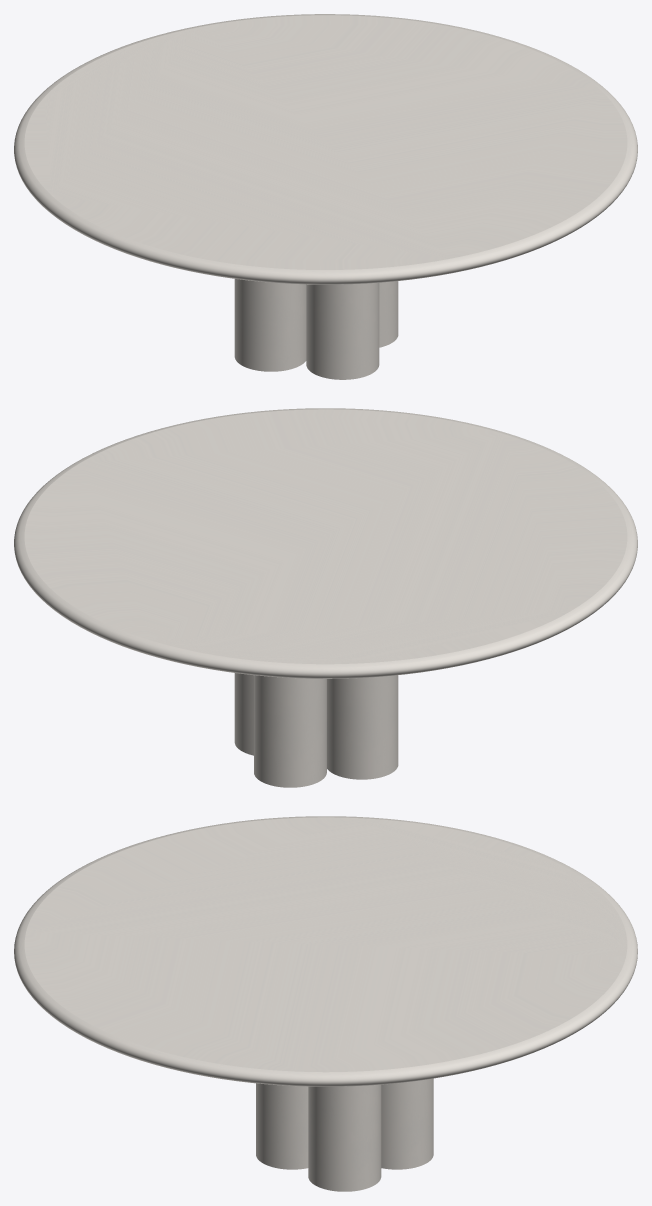
File: pearlwhite_round_round_secondtable.glb
The picture shows the model from 3 angles, top to bottom: view 1: azimuth 30°, elevation 25°; view 2: azimuth 150°, elevation 25°; view 3: azimuth 270°, elevation 25°; orthographic projection.
Visible parts, largest first — view 1: round_round, secondtable; view 2: round_round, secondtable; view 3: round_round, secondtable.
Boxes of the visible parts, left/top/right/bottom form: round_round: left=14, top=14, right=637, bottom=284; secondtable: left=234, top=279, right=398, bottom=379; round_round: left=14, top=408, right=637, bottom=678; secondtable: left=234, top=673, right=398, bottom=787; round_round: left=14, top=816, right=637, bottom=1086; secondtable: left=256, top=1078, right=433, bottom=1191.
Size of the model in its own units: 6.75 by 2.5 by 6.75.
Materials: 1 (1 with a texture image).
